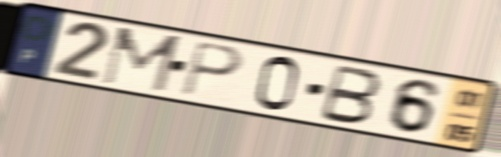0: (254, 54, 300, 113)
2: (50, 21, 114, 85)
6: (386, 77, 442, 137)
B: (316, 62, 384, 127)
M: (97, 25, 184, 96)
P: (179, 38, 246, 99)
